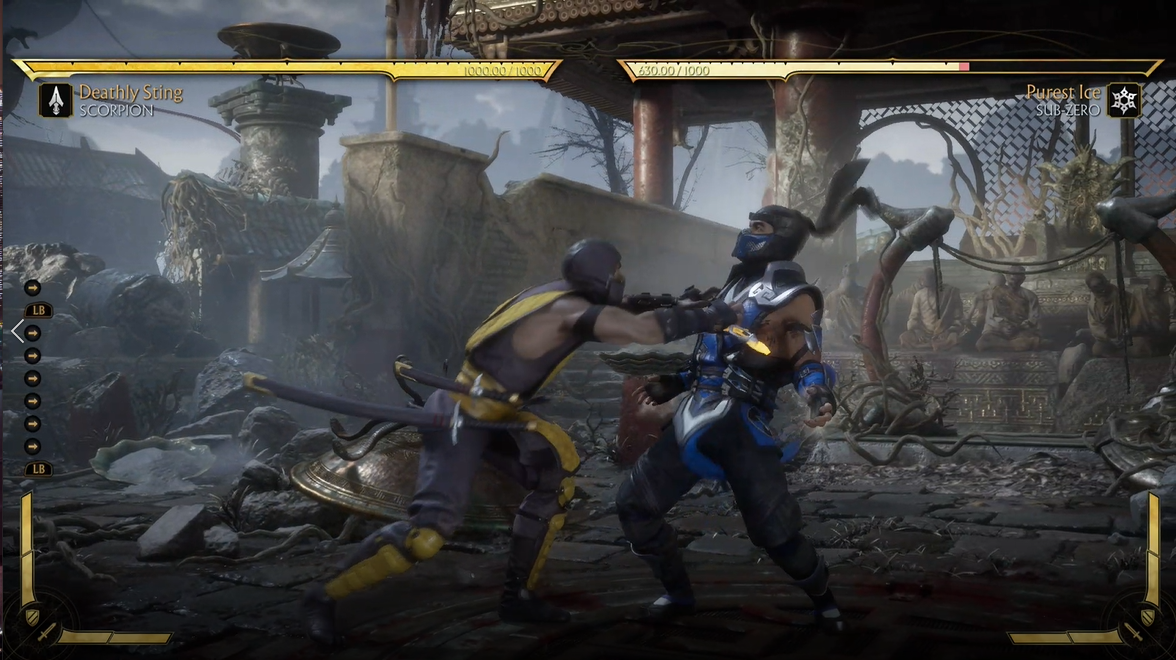grab: (228, 189, 907, 641)
